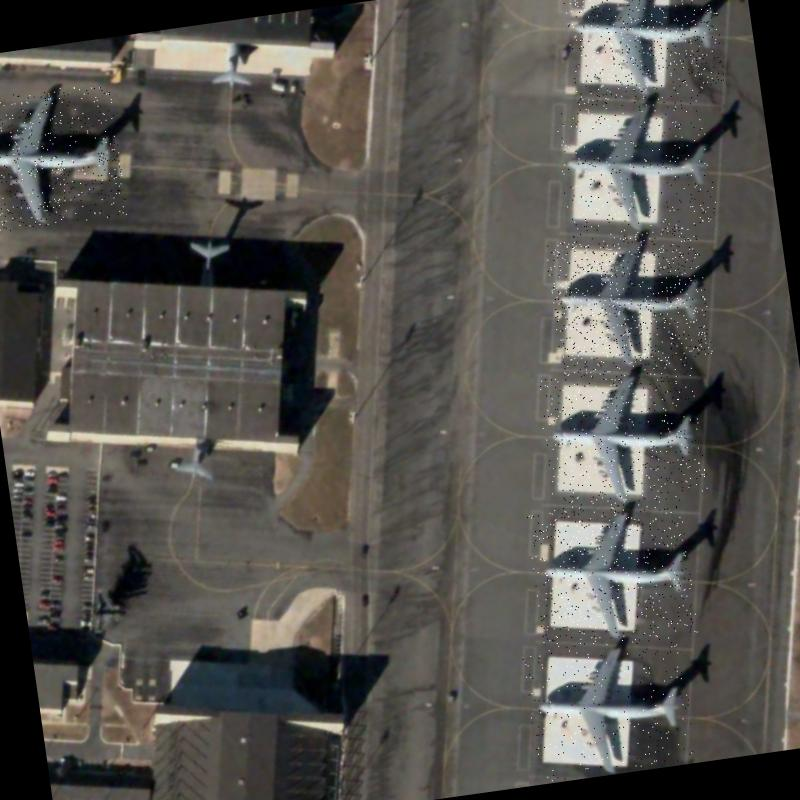A4: (525, 494, 698, 653), (536, 359, 708, 512), (522, 634, 697, 784), (544, 223, 714, 376), (552, 92, 718, 244), (0, 80, 127, 235), (559, 0, 727, 107)
